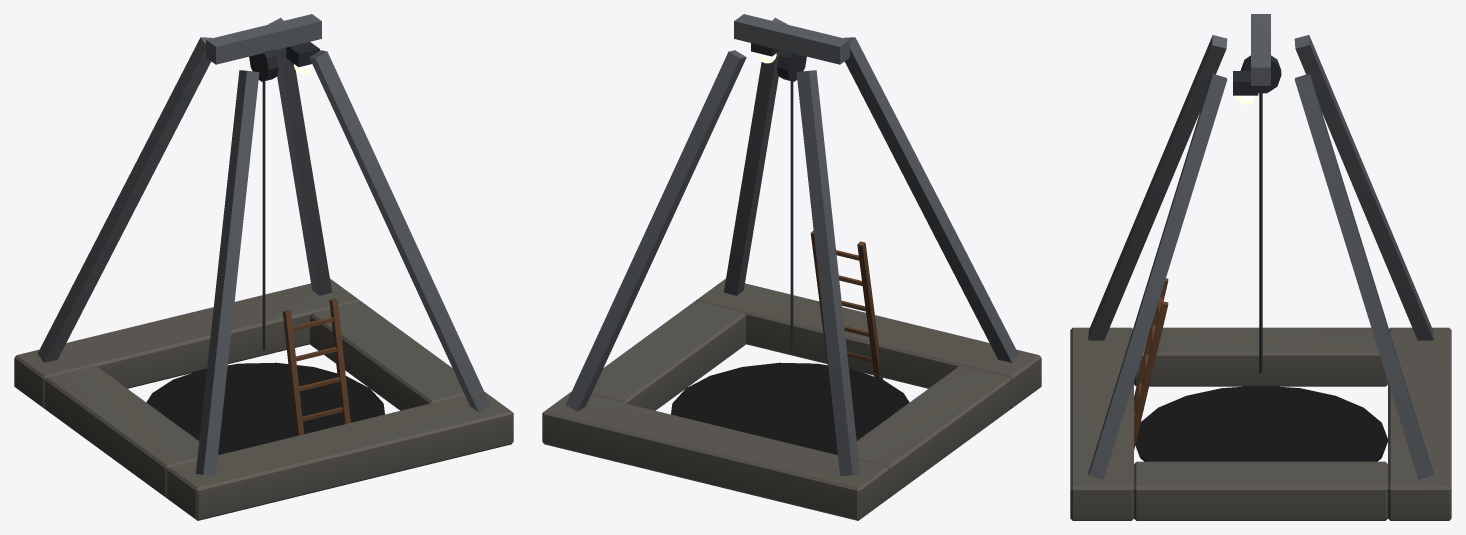
File: shaft.glb
3 renders of one model, left to right at view 1: azimuth 30°, elevation 25°; view 2: azimuth 150°, elevation 25°; view 3: azimuth 270°, elevation 25°, orthographic. The views are drawn at different scales.
Parts seen in each view (by area): view 1: shaft; view 2: shaft; view 3: shaft.
Boxes of the visible parts, x1,y1,x2,y2 form: shaft: (14,14,513,520); shaft: (542,14,1041,520); shaft: (1070,14,1451,520).
Size of the model in its own units: 3 by 3.55 by 3.
